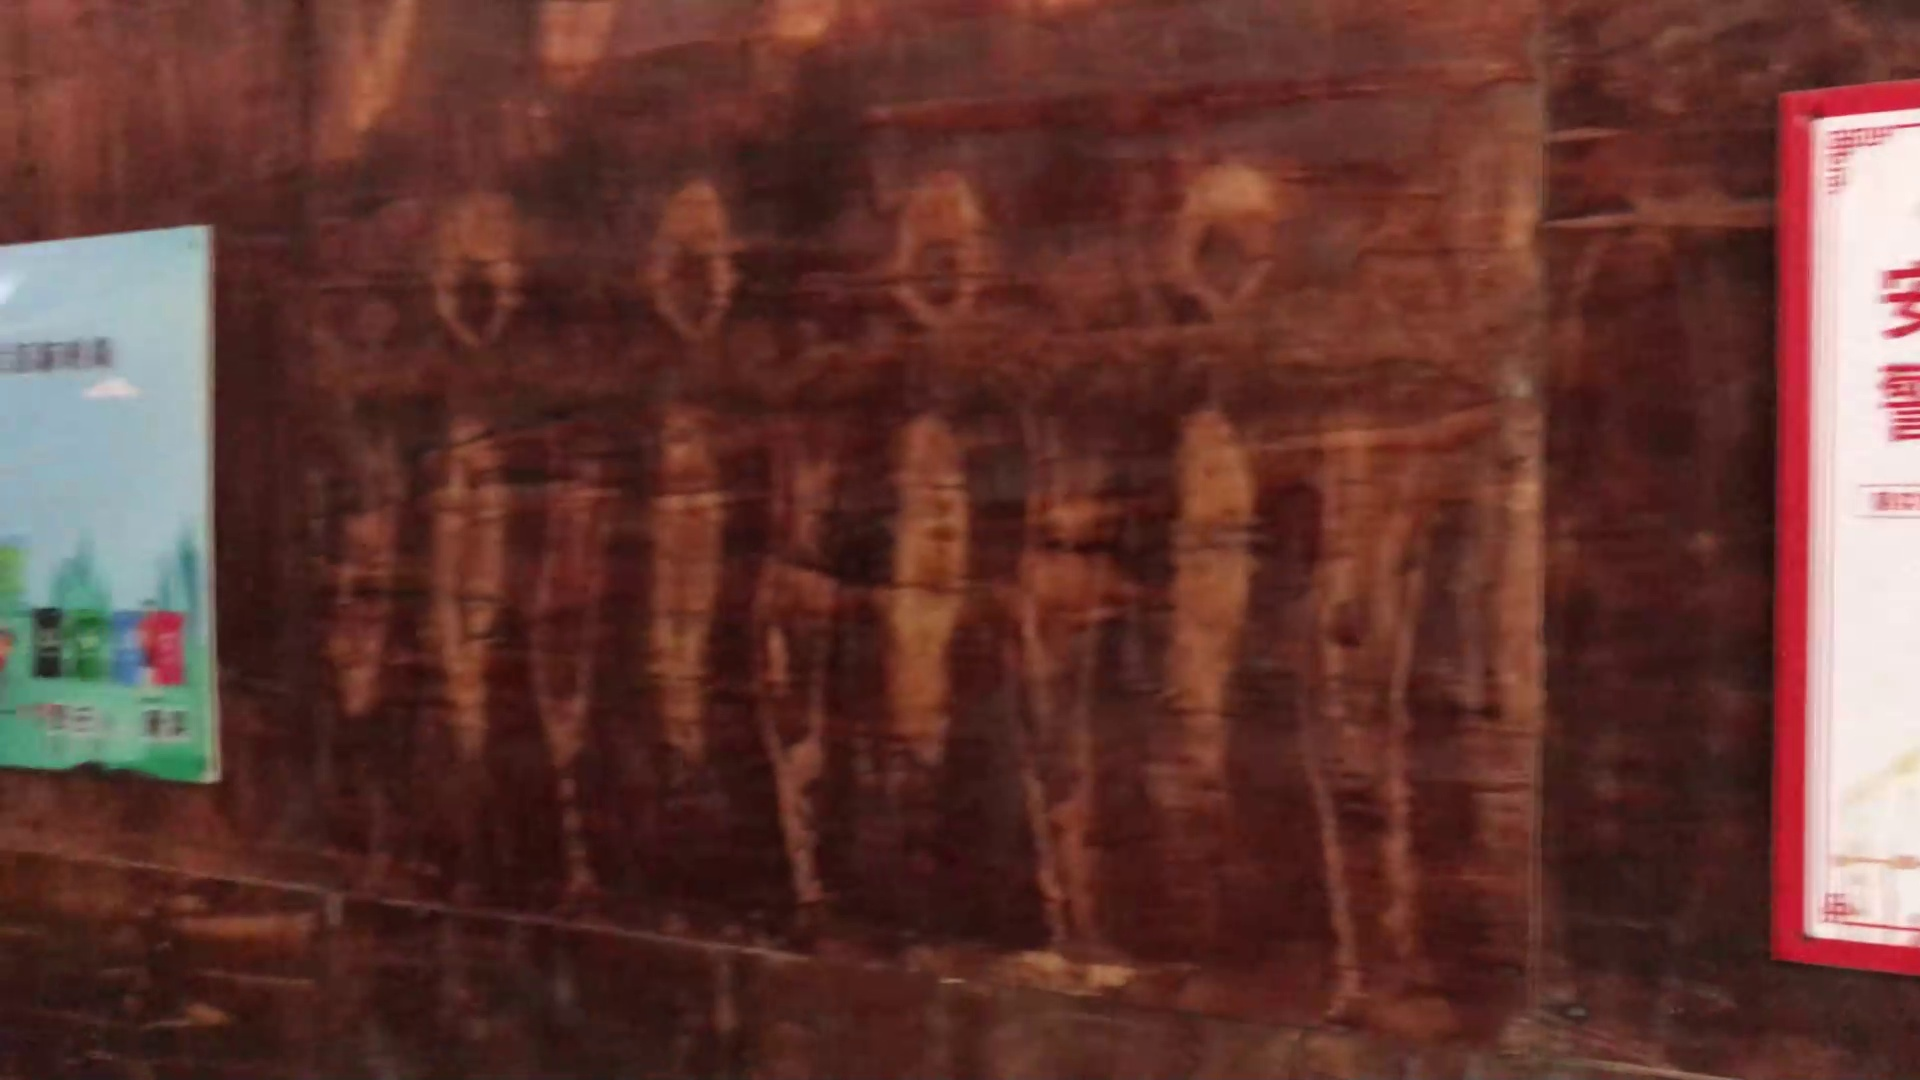slogan: (1758, 82, 1920, 968), (1, 222, 220, 785)
